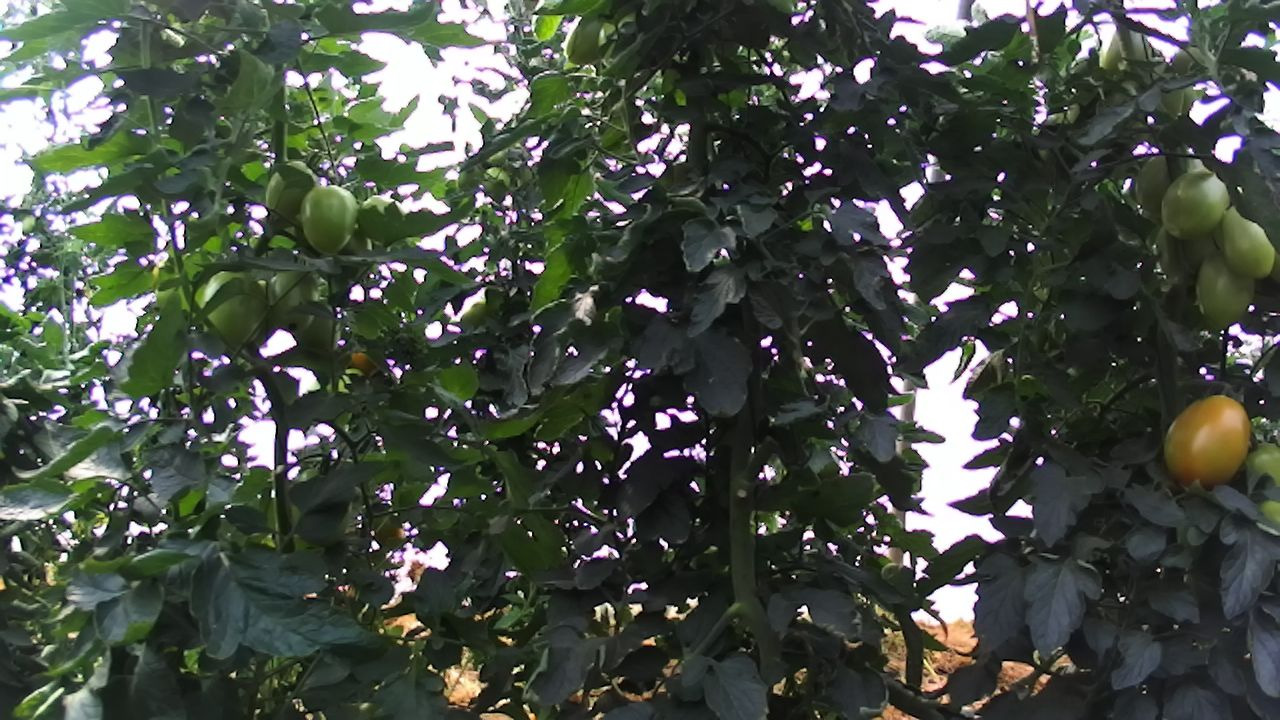tomato: (1161, 389, 1254, 495), (1159, 163, 1234, 242), (1191, 248, 1256, 328), (298, 182, 364, 257), (1219, 200, 1277, 283)
